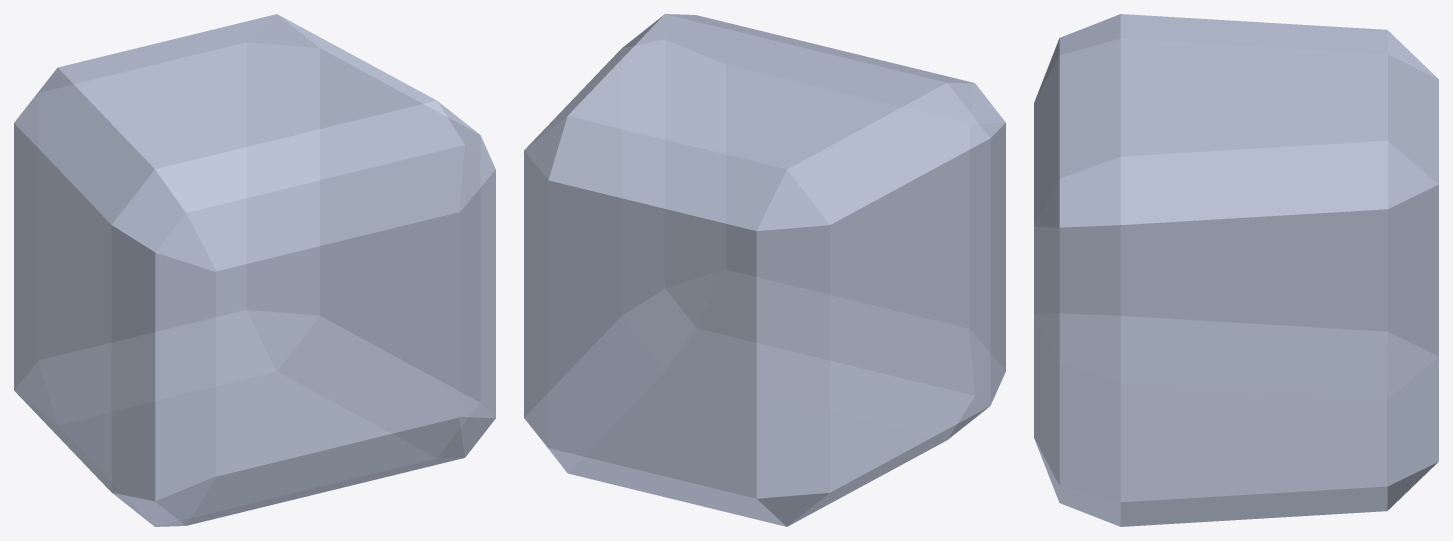
The model's file is Blender0704_v2.fbx.
The picture shows the model from 3 angles, left to right: view 1: azimuth 30°, elevation 25°; view 2: azimuth 150°, elevation 25°; view 3: azimuth 270°, elevation 25°; orthographic projection. The views are drawn at different scales.
Visible parts, largest first — view 1: Cube; view 2: Cube; view 3: Cube.
Part boxes in pixels (x1,y1,x2,y2): Cube: [14, 14, 495, 526]; Cube: [524, 14, 1005, 526]; Cube: [1034, 14, 1438, 526].
Size of the model in its own units: 216 by 200 by 198.
